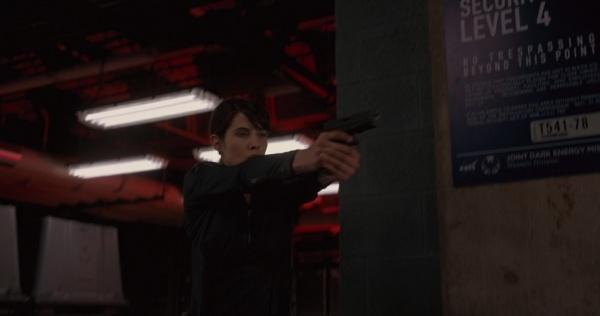Gun: (323, 110, 382, 145)
